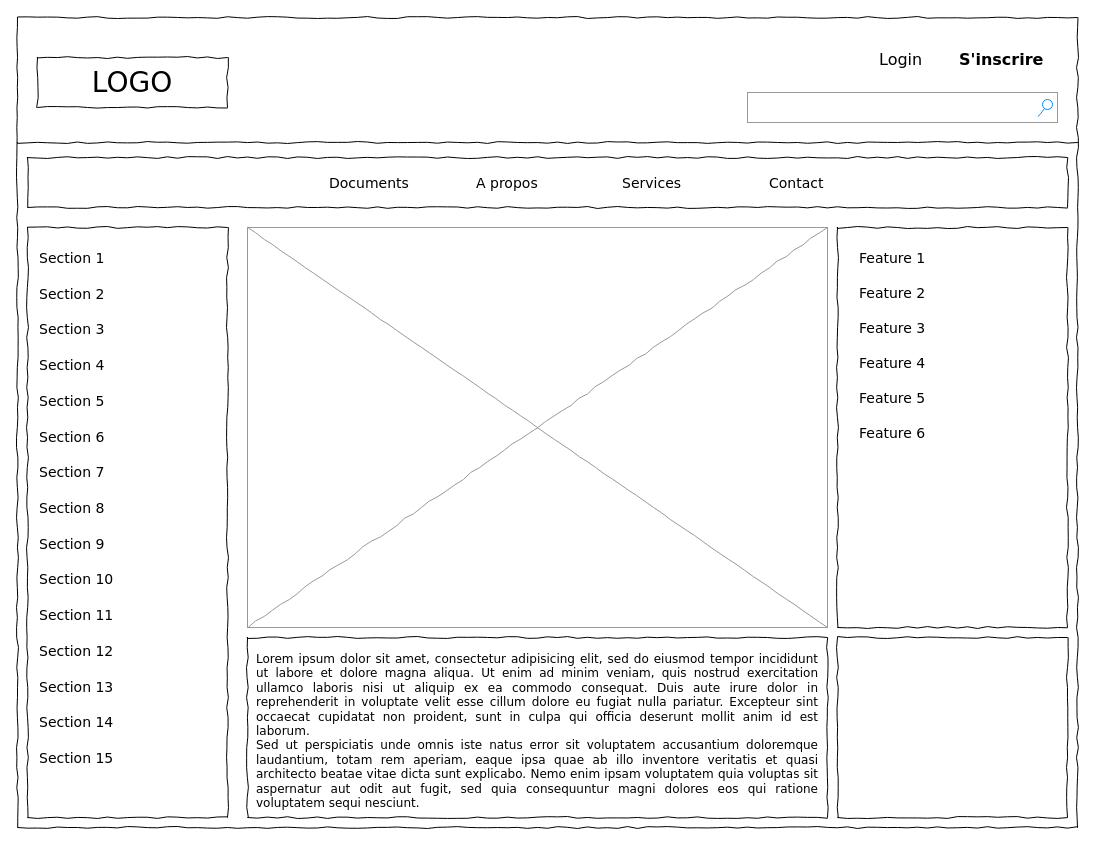
This 1095x845 diagram has some shape labels left out. Each missing label, with the box of its shape:
External Links: (836, 636, 1068, 818)
Recherche: (746, 92, 1058, 122)
